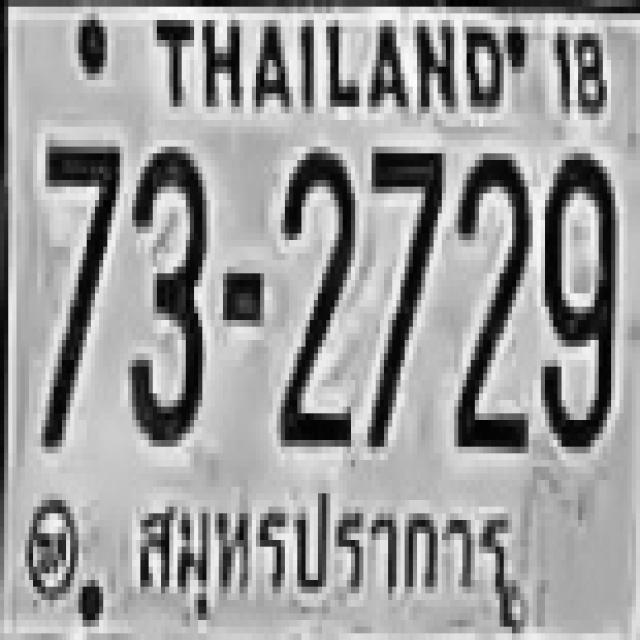2: (454, 146, 529, 446), (277, 144, 351, 444)
3: (126, 140, 204, 440)
7: (39, 140, 118, 447), (367, 144, 442, 444), (41, 140, 116, 360)
9: (539, 146, 613, 446)
SamutPrakan: (125, 482, 507, 610)
